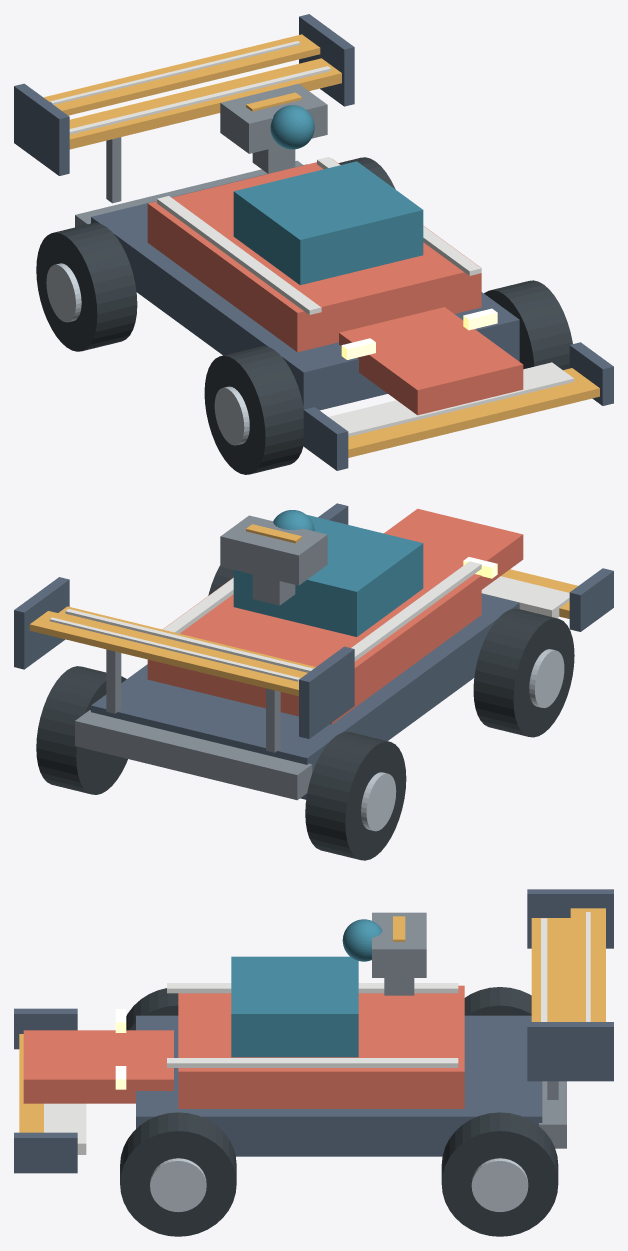
File: apex_viewport_test.glb
3 renders of one model, top to bottom at view 1: azimuth 30°, elevation 25°; view 2: azimuth 150°, elevation 25°; view 3: azimuth 270°, elevation 25°, orthographic. The views are drawn at different scales.
Visible parts, largest first — view 1: UpperBody, Canopy, Chassis, Nose, RearLeftTire, FrontLeftTire, RearWingMainPlane, RearWingBlade, FrontWingBlade, FrontRightTire, SensorTurretHousing, RearWingLeftEndplate (+14 smaller); view 2: Chassis, UpperBody, Canopy, RearBumper, FrontLeftTire, RearLeftTire, RearRightTire, RearWingBlade, Nose, SensorTurretHousing, RearWingLeftEndplate, RearWingRightEndplate (+15 smaller); view 3: UpperBody, Chassis, Canopy, Nose, RearRightTire, FrontRightTire, RearWingRightEndplate, RearWingBlade, RearWingMainPlane, SensorTurretHousing, RightAccentStripe, FrontWingRightEndplate (+14 smaller).
Boxes of the visible parts, box(x1,y1,x2,y2) form: UpperBody: box(147, 159, 481, 352); Canopy: box(233, 161, 423, 285); Chassis: box(91, 164, 519, 410); Nose: box(339, 307, 523, 415); RearLeftTire: box(36, 223, 137, 351); FrontLeftTire: box(204, 346, 303, 474); RearWingMainPlane: box(69, 58, 341, 149); RearWingBlade: box(43, 34, 320, 115); FrontWingBlade: box(348, 368, 599, 457); FrontRightTire: box(484, 280, 572, 369); SensorTurretHousing: box(220, 83, 327, 153); RearWingLeftEndplate: box(14, 83, 69, 175); Chassis: box(91, 593, 519, 799); UpperBody: box(147, 561, 481, 724); Canopy: box(233, 514, 423, 636); RearBumper: box(75, 710, 312, 800); FrontLeftTire: box(473, 608, 574, 737); RearLeftTire: box(305, 731, 406, 860); RearRightTire: box(36, 666, 127, 794); RearWingBlade: box(29, 611, 306, 696); Nose: box(384, 508, 523, 589); SensorTurretHousing: box(220, 515, 327, 585); RearWingLeftEndplate: box(299, 646, 354, 738); RearWingRightEndplate: box(14, 577, 69, 669); UpperBody: box(178, 985, 464, 1108); Chassis: box(136, 1015, 542, 1156); Canopy: box(231, 956, 358, 1057); Nose: box(23, 1030, 173, 1103); RearRightTire: box(441, 1112, 558, 1236); FrontRightTire: box(120, 1112, 236, 1236); RearWingRightEndplate: box(527, 1022, 613, 1081); RearWingBlade: box(570, 908, 605, 1021); RearWingMainPlane: box(531, 918, 570, 1021); SensorTurretHousing: box(372, 912, 426, 977); RightAccentStripe: box(167, 1058, 458, 1067); FrontWingRightEndplate: box(14, 1132, 77, 1173).
Bounding box in the file's own units: 2 × 1.52 × 3.4.
